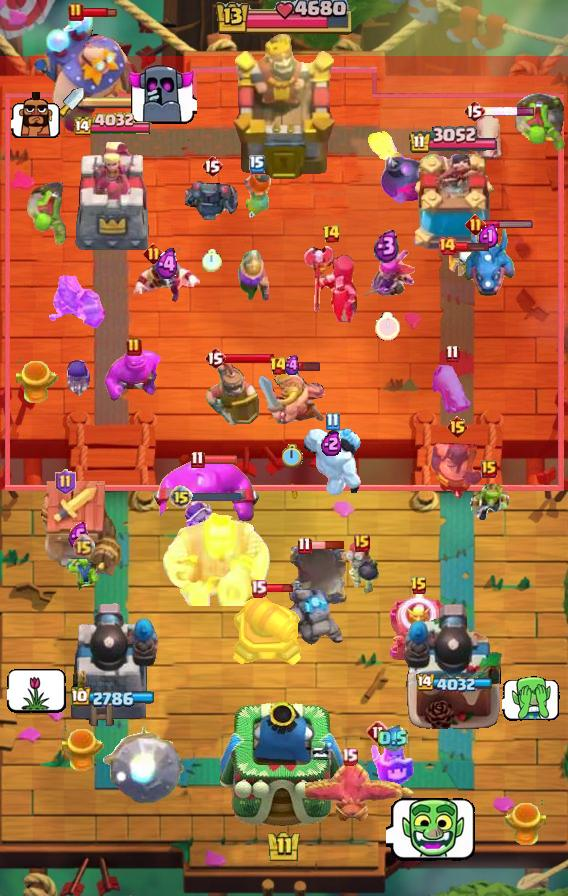archer-evolution: (357, 250, 417, 300)
bar: (190, 490, 242, 503), (223, 352, 275, 364), (483, 106, 536, 117), (483, 219, 534, 230), (286, 360, 321, 372), (82, 6, 117, 18), (202, 454, 238, 465), (455, 241, 490, 252), (310, 540, 345, 550), (264, 583, 296, 593)
bar-level: (366, 720, 390, 744), (169, 485, 193, 509), (446, 415, 469, 439), (55, 469, 76, 495), (72, 534, 95, 557), (204, 346, 226, 370), (201, 154, 223, 178), (463, 99, 485, 123), (143, 243, 164, 264), (465, 214, 486, 235), (437, 236, 457, 256), (269, 356, 288, 376), (322, 224, 341, 244), (410, 576, 428, 596), (341, 747, 358, 766), (250, 579, 267, 598), (126, 337, 142, 357), (68, 2, 84, 22), (354, 534, 370, 552), (481, 460, 497, 478), (249, 155, 265, 173), (297, 536, 312, 555), (190, 450, 205, 469), (325, 412, 340, 431), (445, 344, 460, 363)
bomb: (362, 129, 434, 203)
bomber: (344, 541, 380, 595)
cannoneer-tower: (403, 601, 503, 731), (69, 599, 159, 731)
clock: (375, 312, 400, 341), (282, 444, 303, 468), (202, 249, 222, 272)
dagger-duchess-tower: (73, 140, 155, 256)
dagger-duchess-tower-bar: (84, 95, 156, 109)
electro-dragon: (462, 226, 516, 298)
electro-wizard: (129, 253, 205, 307)
elite-barbarian: (257, 368, 327, 426)
elixir: (374, 229, 400, 263), (155, 248, 180, 281), (378, 725, 408, 752), (68, 522, 89, 550), (321, 431, 343, 456), (478, 224, 500, 249), (283, 355, 302, 376)
elixir-golem-mid: (102, 349, 166, 403)
emote: (386, 795, 478, 864), (125, 62, 197, 126), (502, 675, 560, 721), (7, 668, 66, 713), (11, 91, 61, 139)
executioner: (429, 429, 485, 501)
goblin: (468, 480, 510, 524), (65, 553, 101, 593)
goblin-ball: (514, 92, 568, 154), (25, 182, 75, 248)
golemite: (281, 589, 347, 651)
guard: (371, 729, 415, 789)
hog: (430, 361, 474, 417), (469, 110, 503, 166)
king-tower: (220, 701, 348, 826), (231, 34, 338, 181)
king-tower-bar: (213, 0, 355, 38)
mini-pekka: (182, 177, 242, 223)
mortar: (286, 541, 350, 607)
mortar-evolution: (387, 594, 451, 664)
musketeer: (236, 249, 270, 303)
night-witch: (301, 244, 361, 328)
queen-tower: (405, 154, 501, 256)
royal-recruit: (205, 359, 259, 427)
skeleton: (449, 248, 477, 280)
skeleton-evolution: (63, 359, 93, 397), (183, 500, 215, 534)
tower-bar: (408, 126, 499, 155), (74, 112, 154, 138), (71, 687, 157, 709), (414, 674, 492, 694)
valkyrie: (238, 169, 276, 221)
valkyrie-evolution: (47, 272, 105, 332)
